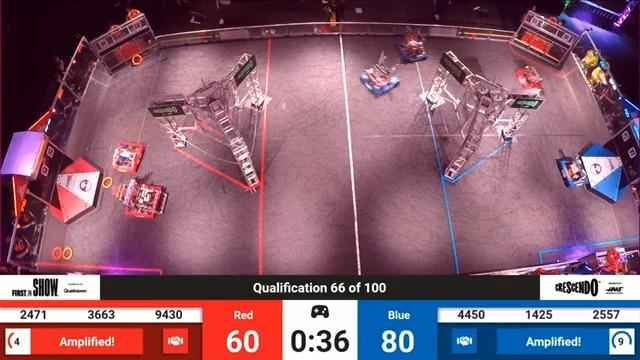robot: (116, 176, 172, 223), (358, 52, 408, 103), (552, 142, 597, 193), (107, 138, 151, 175), (396, 24, 432, 67), (512, 63, 549, 97)
